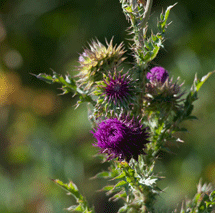thistle: (94, 113, 152, 160), (145, 67, 186, 118), (95, 71, 145, 112)
